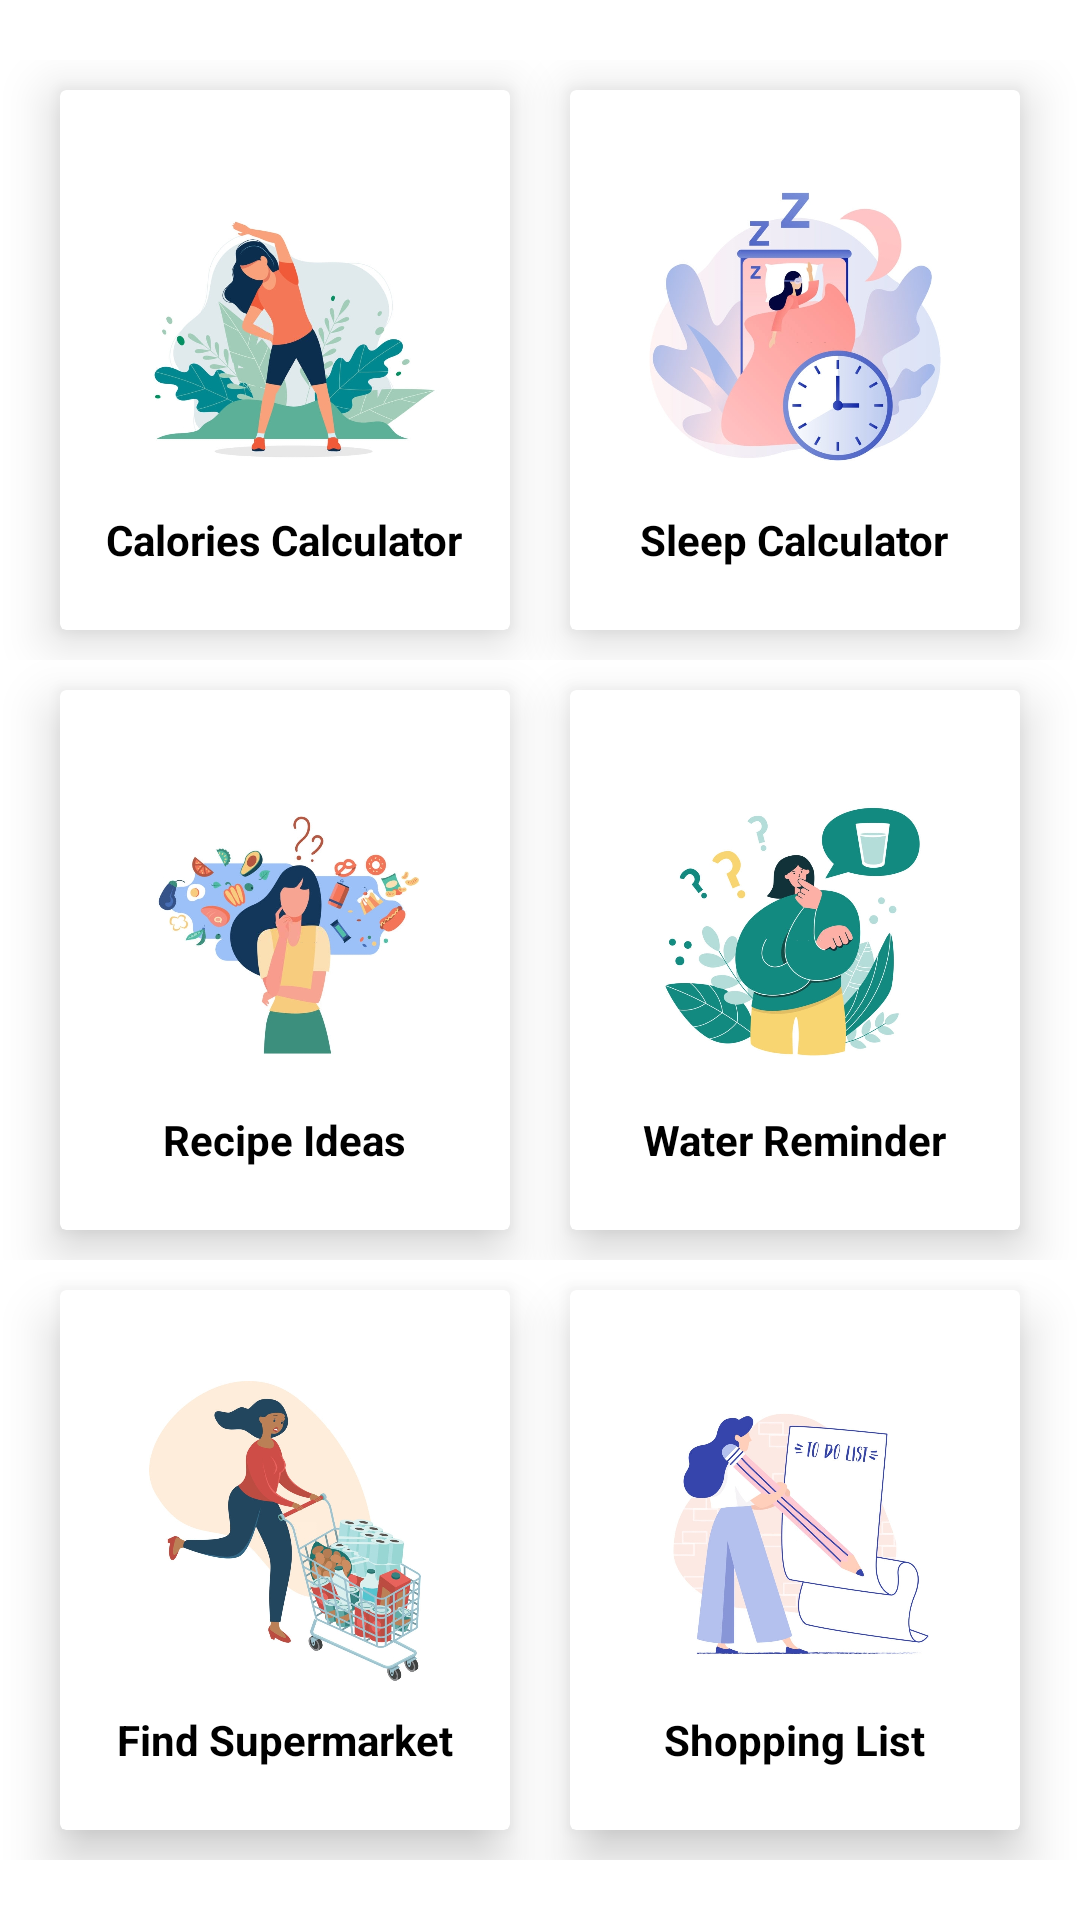

Icons on this 1080w x 1920h Android screen, each with its box as (x1, y1, x2, y2):
shopping: (149, 1381, 421, 1681)
